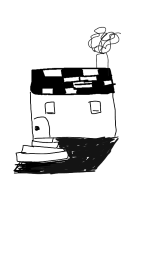door: (27, 110, 56, 143)
open_window: (86, 98, 107, 116), (43, 101, 61, 116)
shaded_roof: (23, 59, 125, 98)
shadow: (10, 137, 123, 181)
smoking_chimney: (80, 21, 126, 67)
wall: (25, 88, 119, 141)
